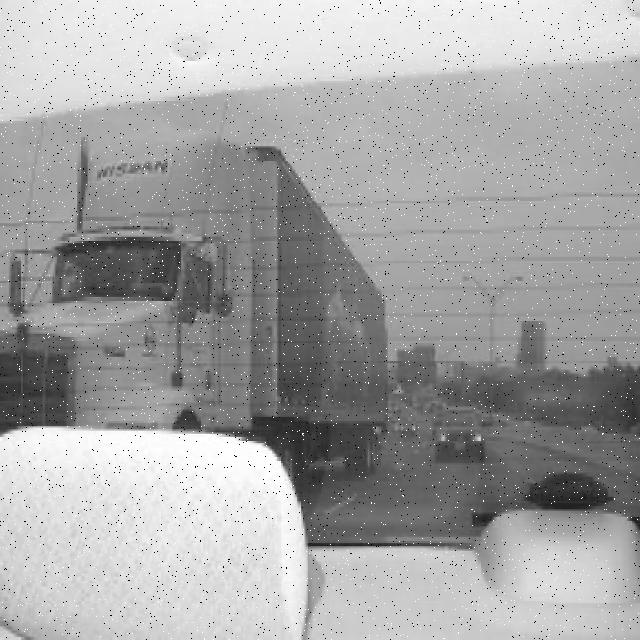Box Truck: (0, 137, 390, 505)
